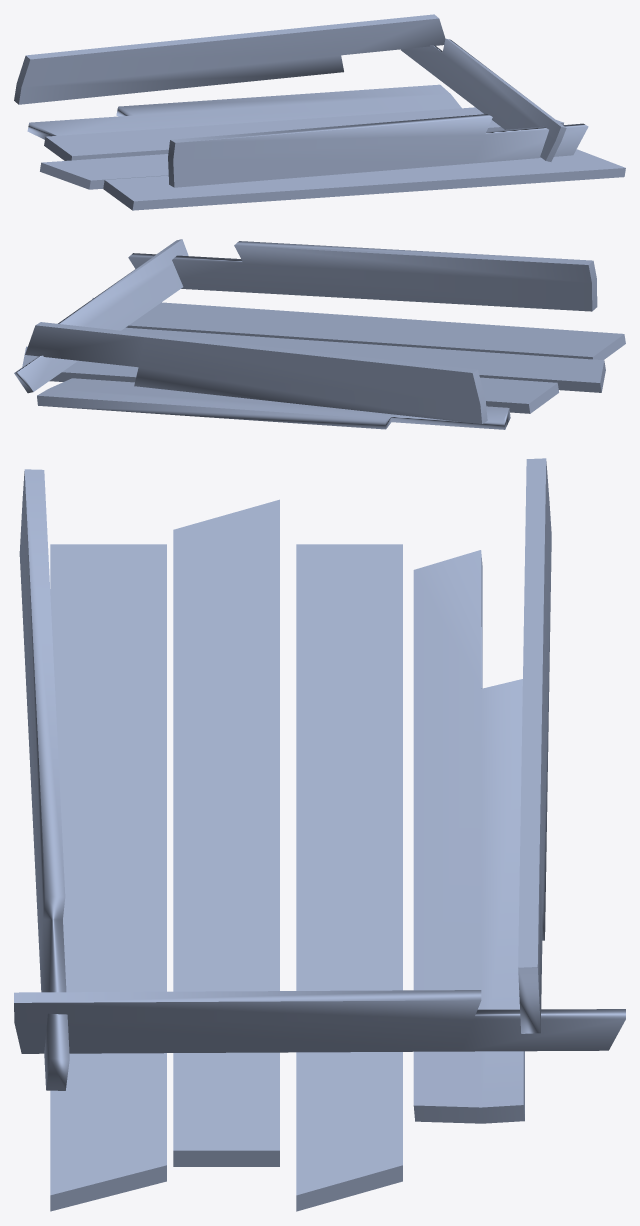
Rendered from Beam_Structure_18B_Lod0.fbx.
The picture shows the model from 3 angles, top to bottom: view 1: azimuth 30°, elevation 25°; view 2: azimuth 150°, elevation 25°; view 3: azimuth 270°, elevation 25°; orthographic projection. The views are drawn at different scales.
Parts seen in each view (by area): view 1: Beam_Structure_18B_Lod0; view 2: Beam_Structure_18B_Lod0; view 3: Beam_Structure_18B_Lod0.
Boxes of the visible parts, x1=… form: Beam_Structure_18B_Lod0: x1=14, y1=14, x2=625, y2=210; Beam_Structure_18B_Lod0: x1=14, y1=239, x2=625, y2=429; Beam_Structure_18B_Lod0: x1=14, y1=458, x2=625, y2=1211.
Size of the model in its own units: 226 by 61.29 by 114.
